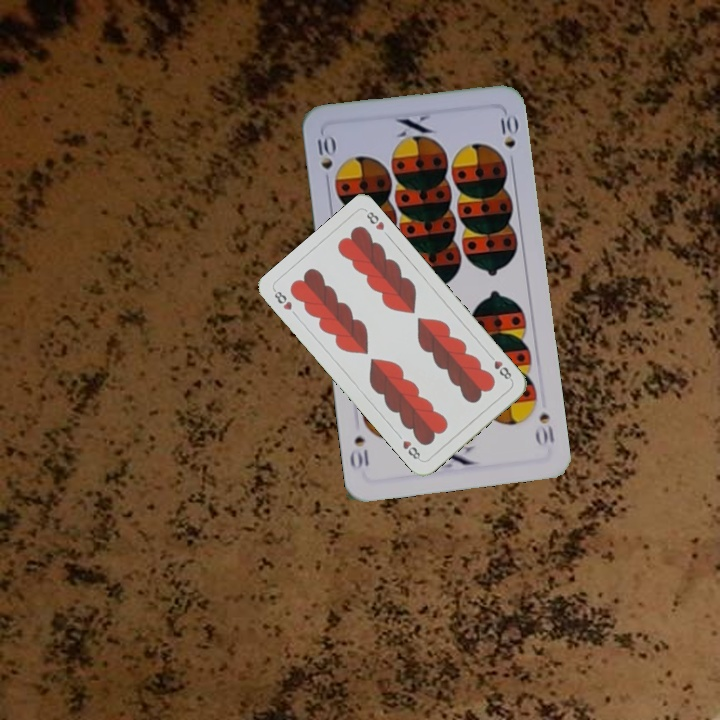H8: (484, 350, 515, 384), (270, 286, 295, 313)
S10: (532, 408, 557, 449), (313, 130, 336, 172)
